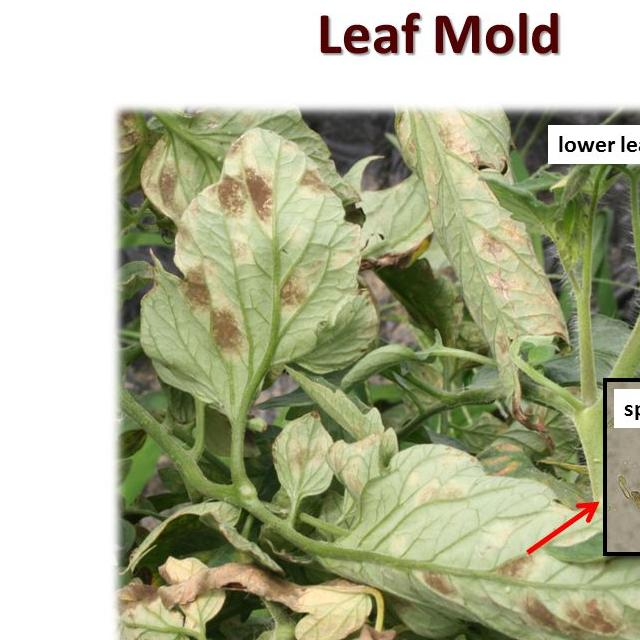Tomato mold leaf: (138, 123, 367, 425), (322, 428, 640, 640), (377, 113, 567, 400), (262, 409, 340, 509)
